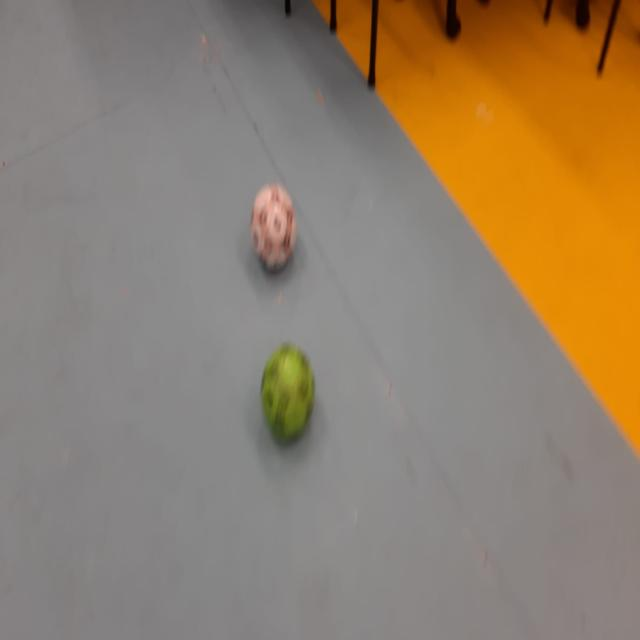ball: (260, 342, 316, 447), (250, 183, 298, 274)
